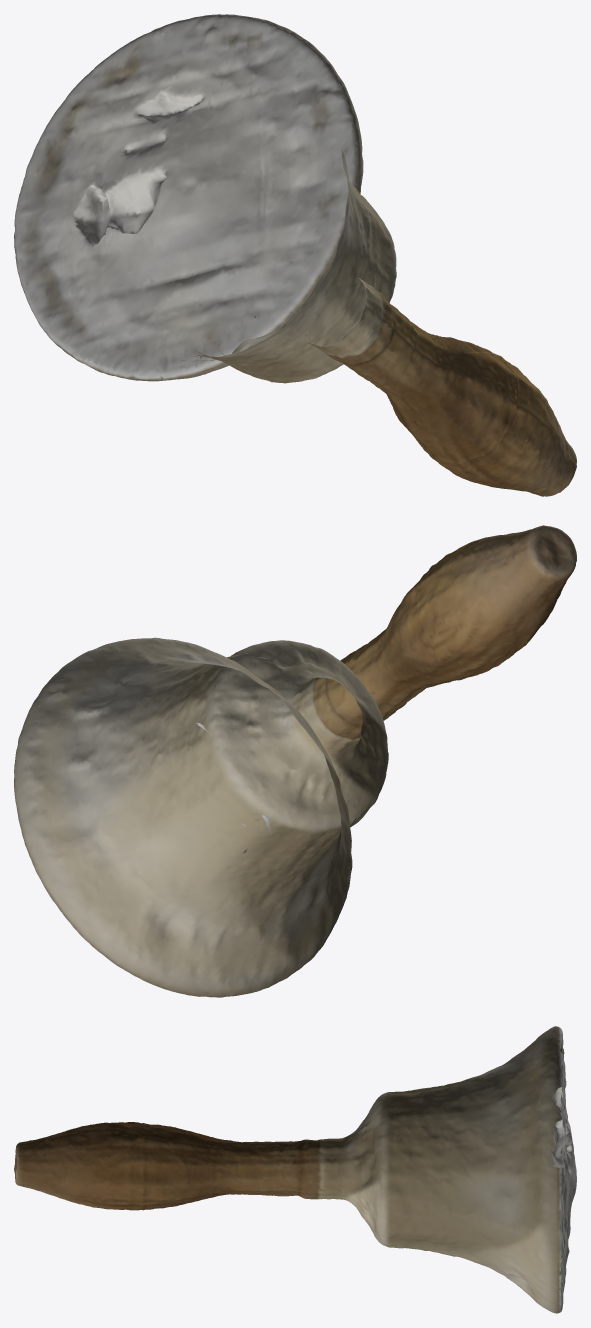
The model's file is bell.glb.
3 views of the same model, one above another, from view 1: azimuth 30°, elevation 25°; view 2: azimuth 150°, elevation 25°; view 3: azimuth 270°, elevation 25° (orthographic). The views are drawn at different scales.
Bounding box in the file's own units: 0.5118 × 0.5081 × 1.
